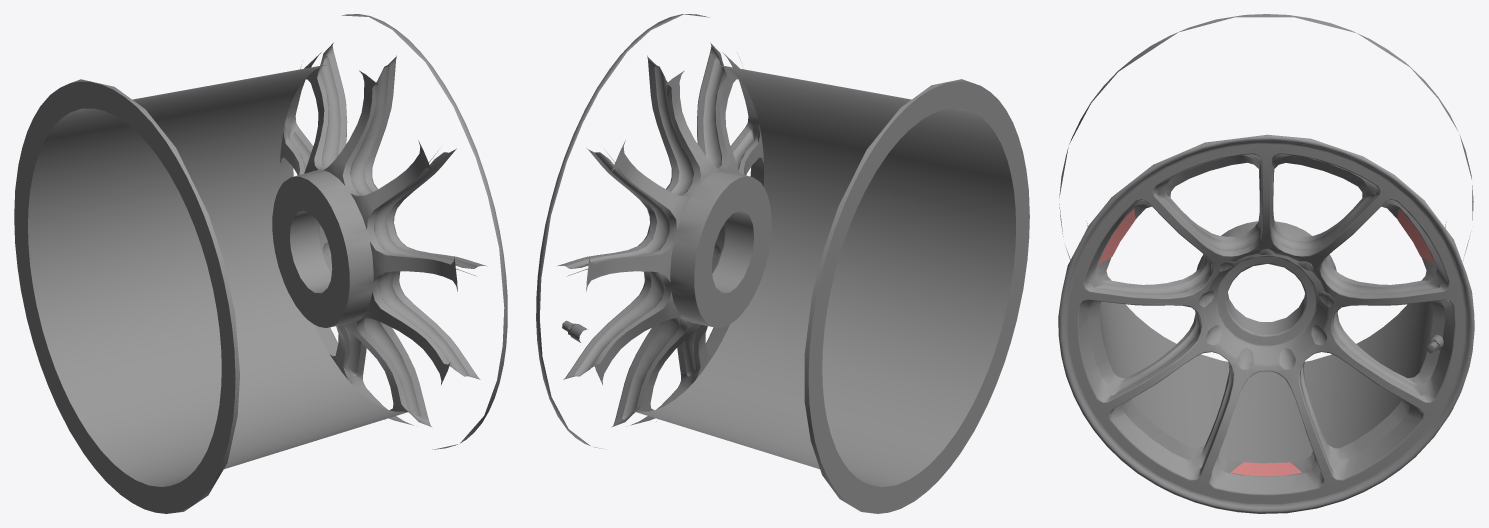
Rendered from nissan_gtr_gt3_2018_rim_lr_Lod1.gltf.
3 renders of one model, left to right at view 1: azimuth 30°, elevation 25°; view 2: azimuth 150°, elevation 25°; view 3: azimuth 270°, elevation 25°, orthographic. The views are drawn at different scales.
Parts seen in each view (by area): view 1: nissan_gtr_gt3_2018_rim_lr_Lod1; view 2: nissan_gtr_gt3_2018_rim_lr_Lod1; view 3: nissan_gtr_gt3_2018_rim_lr_Lod1.
Part boxes in pixels (bbox=[...]): nissan_gtr_gt3_2018_rim_lr_Lod1: bbox=[14, 14, 507, 513]; nissan_gtr_gt3_2018_rim_lr_Lod1: bbox=[536, 14, 1029, 513]; nissan_gtr_gt3_2018_rim_lr_Lod1: bbox=[1058, 14, 1474, 513].
Bounding box in the file's own units: 0.3547 × 0.5038 × 0.5033.
